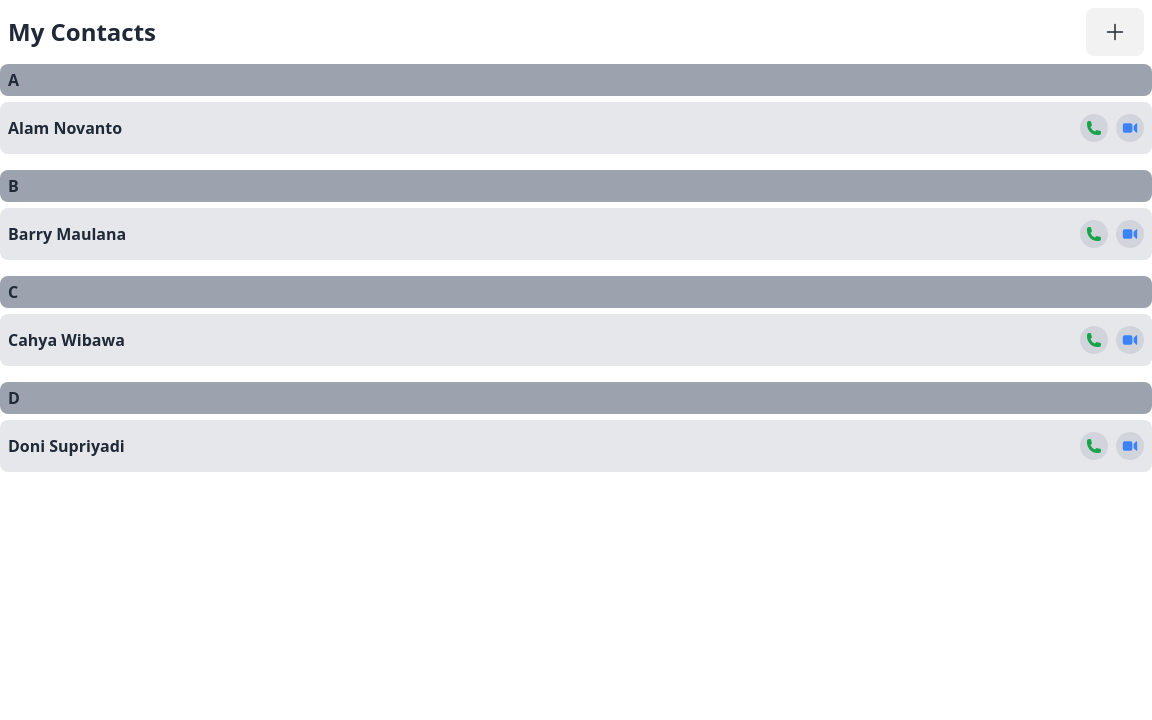
Test: Home page unit test › Should close Create New Contact form after successfully creating data
Click the button with test id "createContactBtn" at coordinates (1115, 32), box x1=1086 y1=8 x2=1144 y2=56
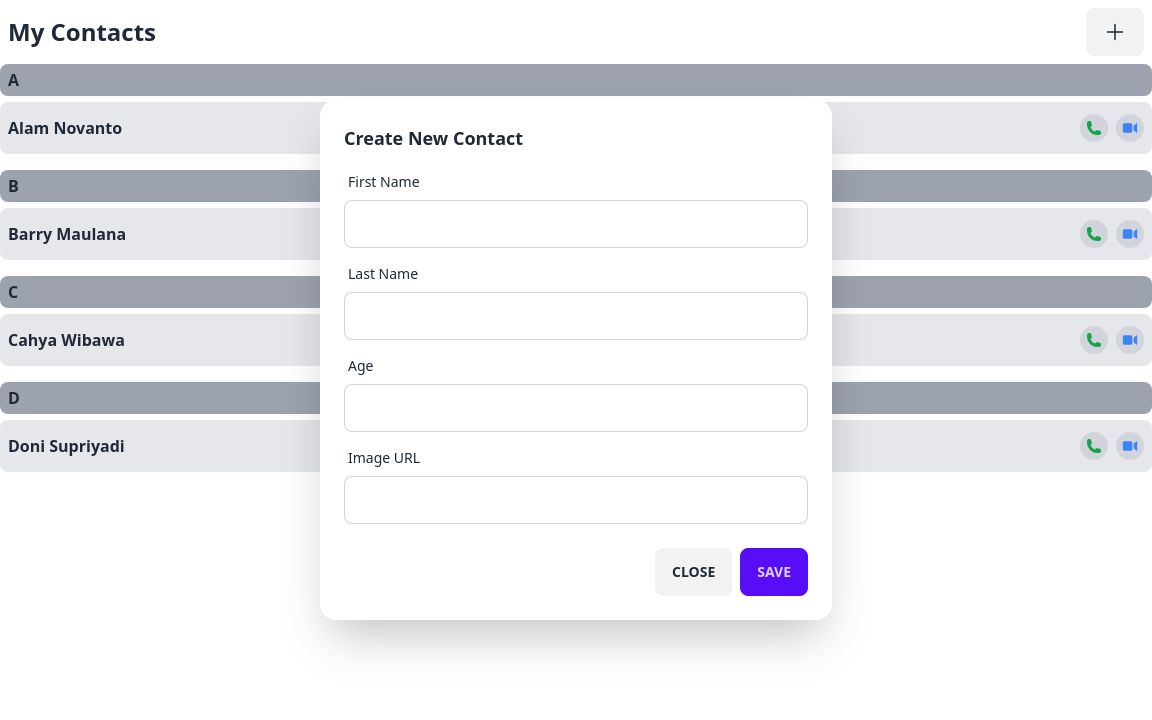
Type "jerome" into the field labelled "First Name" at coordinates (576, 224), box x1=344 y1=200 x2=808 y2=248
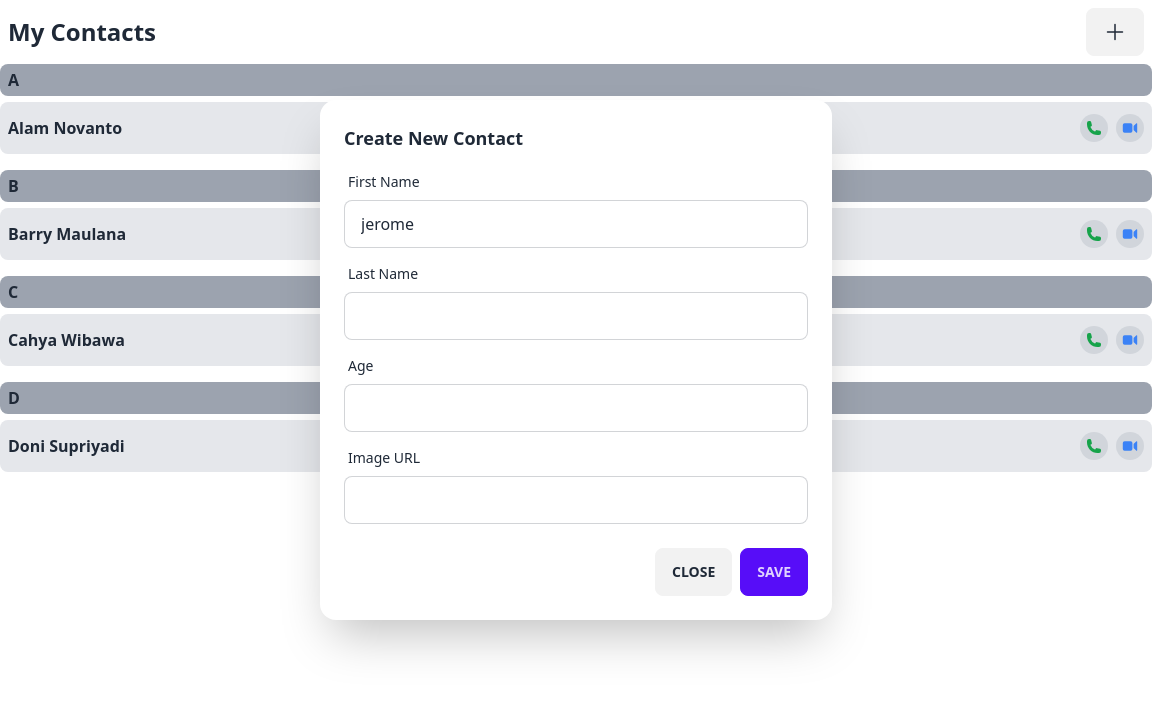
Type "valeska" into the field labelled "Last Name" at coordinates (576, 316), box x1=344 y1=292 x2=808 y2=340
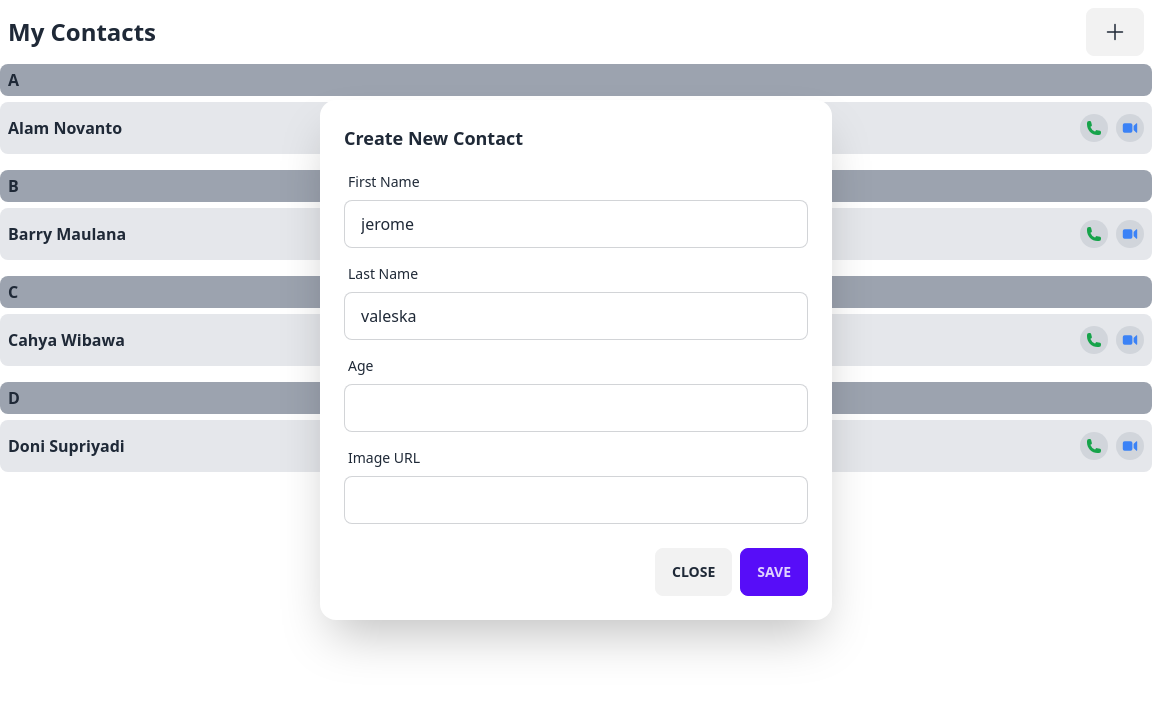
Type "18" into the field labelled "Age" at coordinates (576, 408), box x1=344 y1=384 x2=808 y2=432
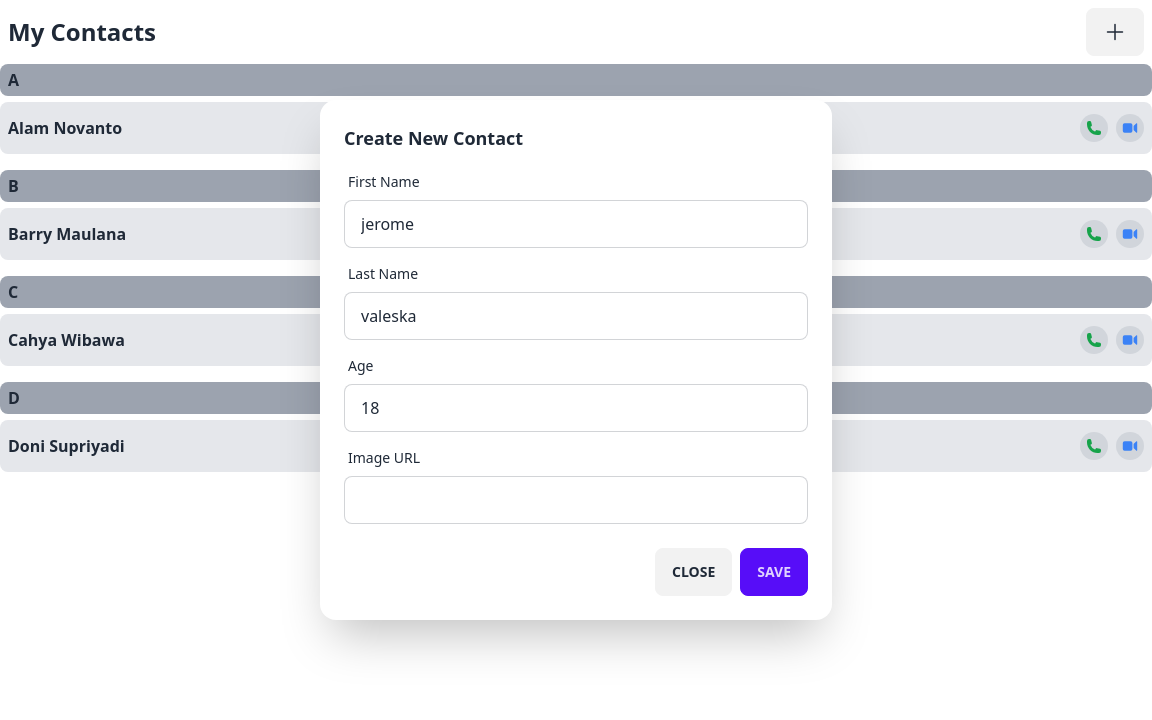
Type "jerome.png" into the field labelled "Image URL" at coordinates (576, 500), box x1=344 y1=476 x2=808 y2=524
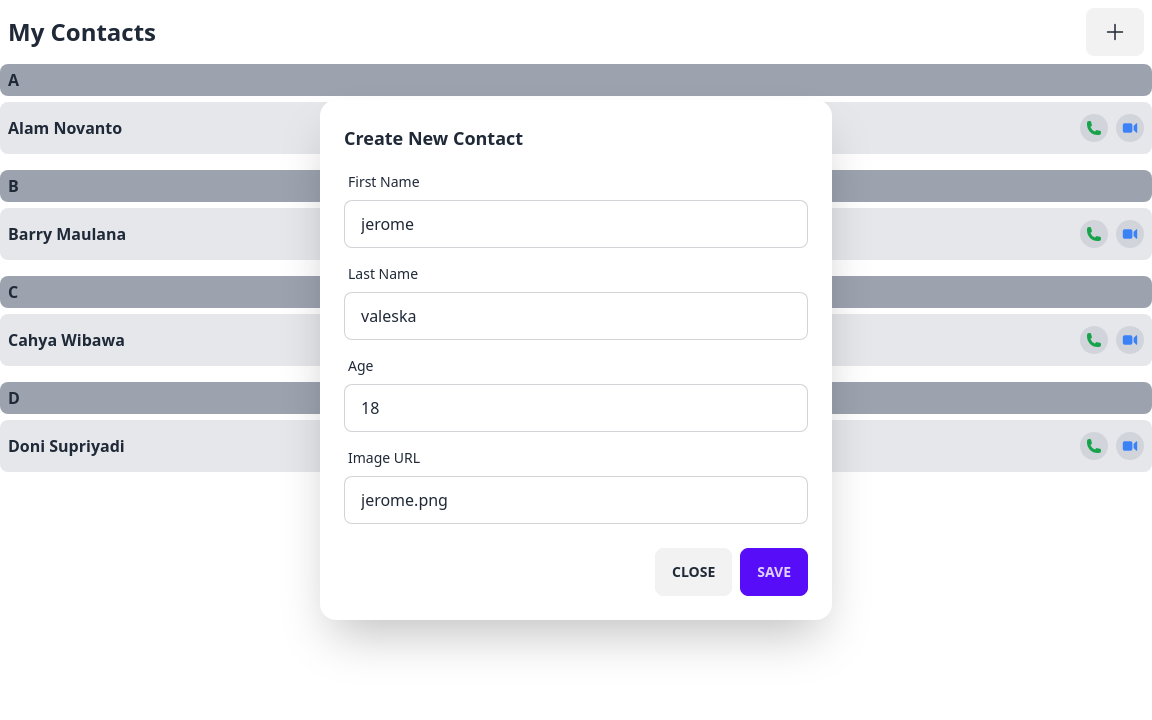
Click the button "Save" at coordinates (774, 572), box x1=740 y1=548 x2=808 y2=596
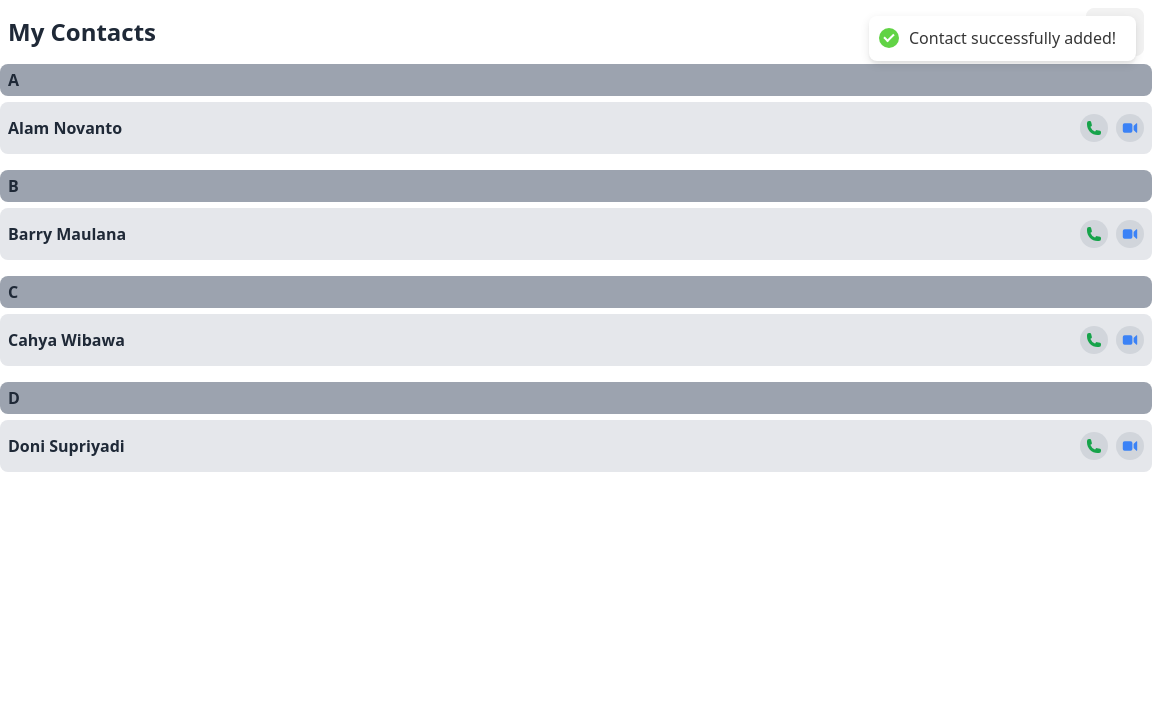
Result: the text "Contact successfully added!" is shown at x1=909 y1=28 x2=1116 y2=49
